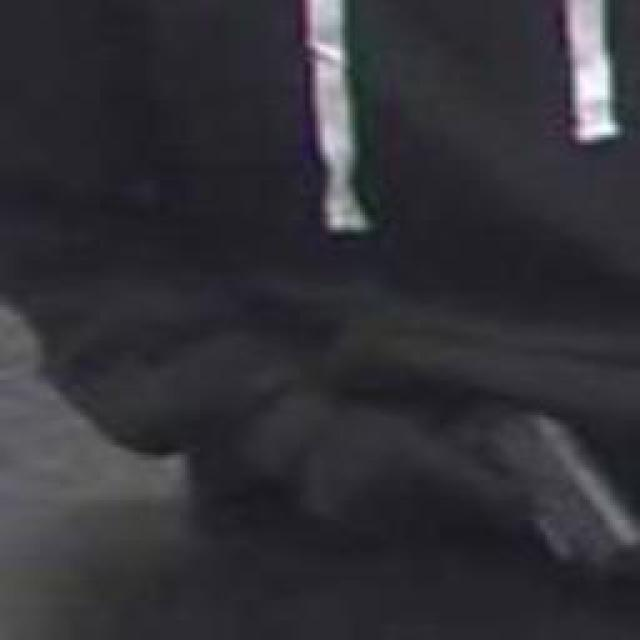Guns: (437, 407, 640, 590)
